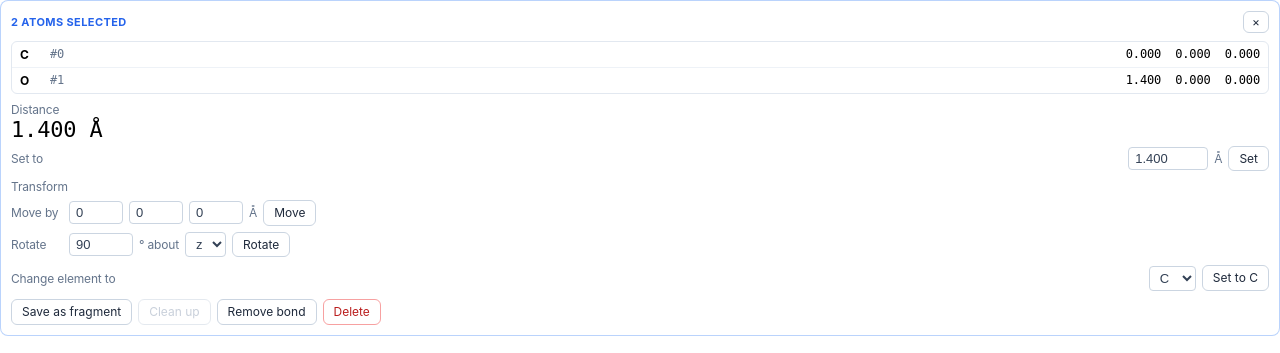
Scenario: Inspector — bonds, transforms and their feedback › offers Remove bond for two bonded atoms and rebalances them
Click the button with test id "builder-remove-bond" at x=267, y=312, box [217, 299, 316, 325]
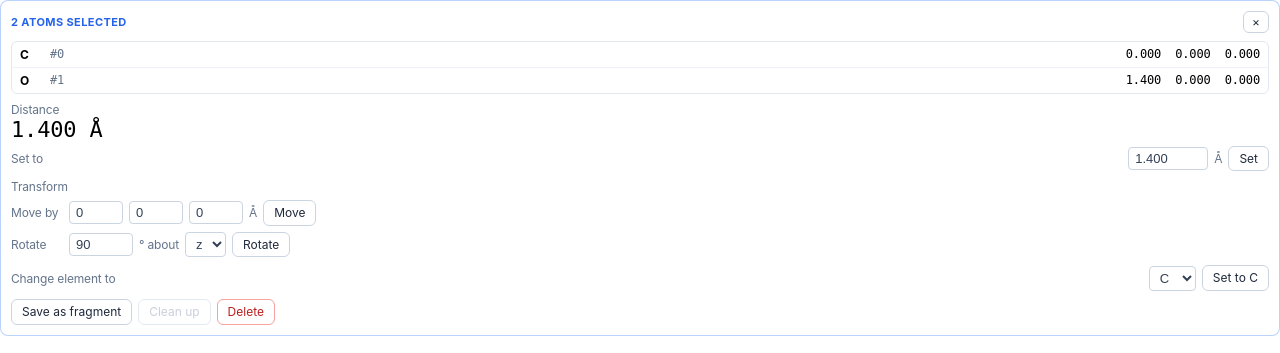
Expected: the button with test id "builder-remove-bond" is gone
